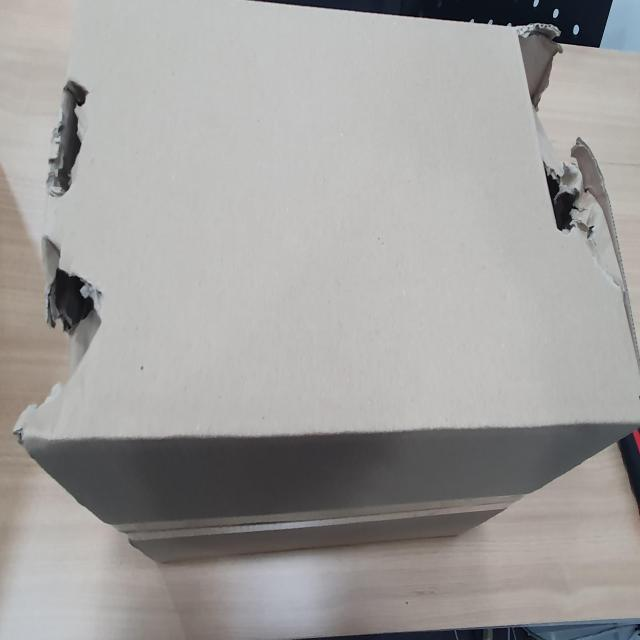damaged: (141, 72, 228, 176), (248, 79, 316, 161)
